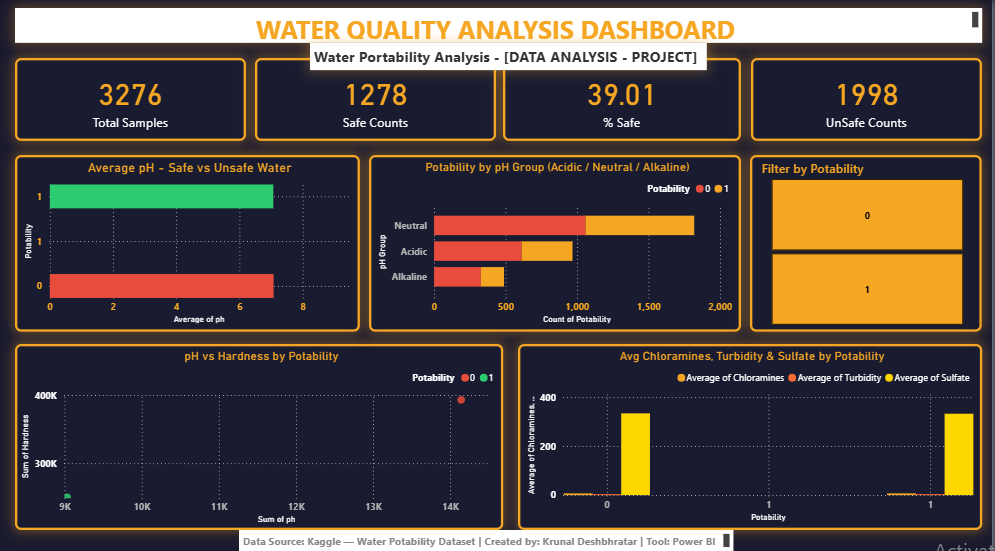

This screenshot's page, from the dashboard's own definition file:
{"tool":"powerbi","page":{"name":"Dashboard","canvas":[1280,720],"ordinal":0},"visuals":[{"type":"card","fields":{"Values":["CountNonNull(water_potability_clean.Potability)"]},"box":[18.8,76.6,297.8,107],"z":1000},{"type":"card","fields":{"Values":["CountNonNull(water_potability_clean.Potability)"]},"box":[329.6,76.6,310.8,107],"z":2000},{"type":"card","fields":{"Values":["CountNonNull(water_potability_clean.Potability)"]},"box":[968.7,76.6,297.8,107],"z":3000},{"type":"card","fields":{"Values":["water_potability_clean.% Safe"]},"box":[649.2,76.6,306.5,107],"z":4000},{"type":"textbox","box":[18.8,11.6,1247.7,44.8],"z":4500},{"type":"clusteredBarChart","title":"Average pH - Safe vs Unsafe Water","fields":{"Y":["Avg(water_potability_clean.ph)"],"Category":["water_potability_clean.Potability"]},"box":[18.8,201,445.3,228.4],"z":5000},{"type":"clusteredColumnChart","title":"Avg Chloramines, Turbidity & Sulfate by Potability","fields":{"Category":["water_potability_clean.Potability"],"Y":["Avg(water_potability_clean.Chloramines)","Avg(water_potability_clean.Turbidity)","Avg(water_potability_clean.Sulfate)"]},"box":[668,445.3,598.6,240],"z":6000},{"type":"scatterChart","title":"pH vs Hardness by Potability","fields":{"X":["Sum(water_potability_clean.ph)"],"Y":["Sum(water_potability_clean.Hardness)"],"Series":["water_potability_clean.Potability"],"Category":["water_potability_clean.Potability"]},"box":[18.8,445.3,630.4,240],"z":7000},{"type":"barChart","title":"Potability by pH Group (Acidic / Neutral / Alkaline)","fields":{"Category":["water_potability_clean.pH Group"],"Y":["CountNonNull(water_potability_clean.Potability)"],"Series":["water_potability_clean.Potability"]},"box":[475.7,201,480,228.4],"z":8000},{"type":"slicer","fields":{"Values":["water_potability_clean.Potability"]},"box":[967.2,201,299.3,228.4],"z":9000},{"type":"textbox","box":[400.5,56.4,511.8,34.7],"z":10000},{"type":"textbox","box":[308,685.3,637.6,31.8],"z":10001}]}

Visuals, with their boxes in screenshot pixels (x1, y1, x2, y2), scaled from the page's 1280x720 canvas onto the 995x551 screenshot:
card - CountNonNull(water_potability_clean.Potability): <box>15,59,246,141</box>
card - CountNonNull(water_potability_clean.Potability): <box>256,59,498,141</box>
card - CountNonNull(water_potability_clean.Potability): <box>753,59,985,141</box>
card - water_potability_clean.% Safe: <box>505,59,743,141</box>
textbox: <box>15,9,985,43</box>
"Average pH - Safe vs Unsafe Water" clusteredBarChart: <box>15,154,361,329</box>
"Avg Chloramines, Turbidity & Sulfate by Potability" clusteredColumnChart: <box>519,341,985,524</box>
"pH vs Hardness by Potability" scatterChart: <box>15,341,505,524</box>
"Potability by pH Group (Acidic / Neutral / Alkaline)" barChart: <box>370,154,743,329</box>
slicer - water_potability_clean.Potability: <box>752,154,985,329</box>
textbox: <box>311,43,709,70</box>
textbox: <box>239,524,735,549</box>
